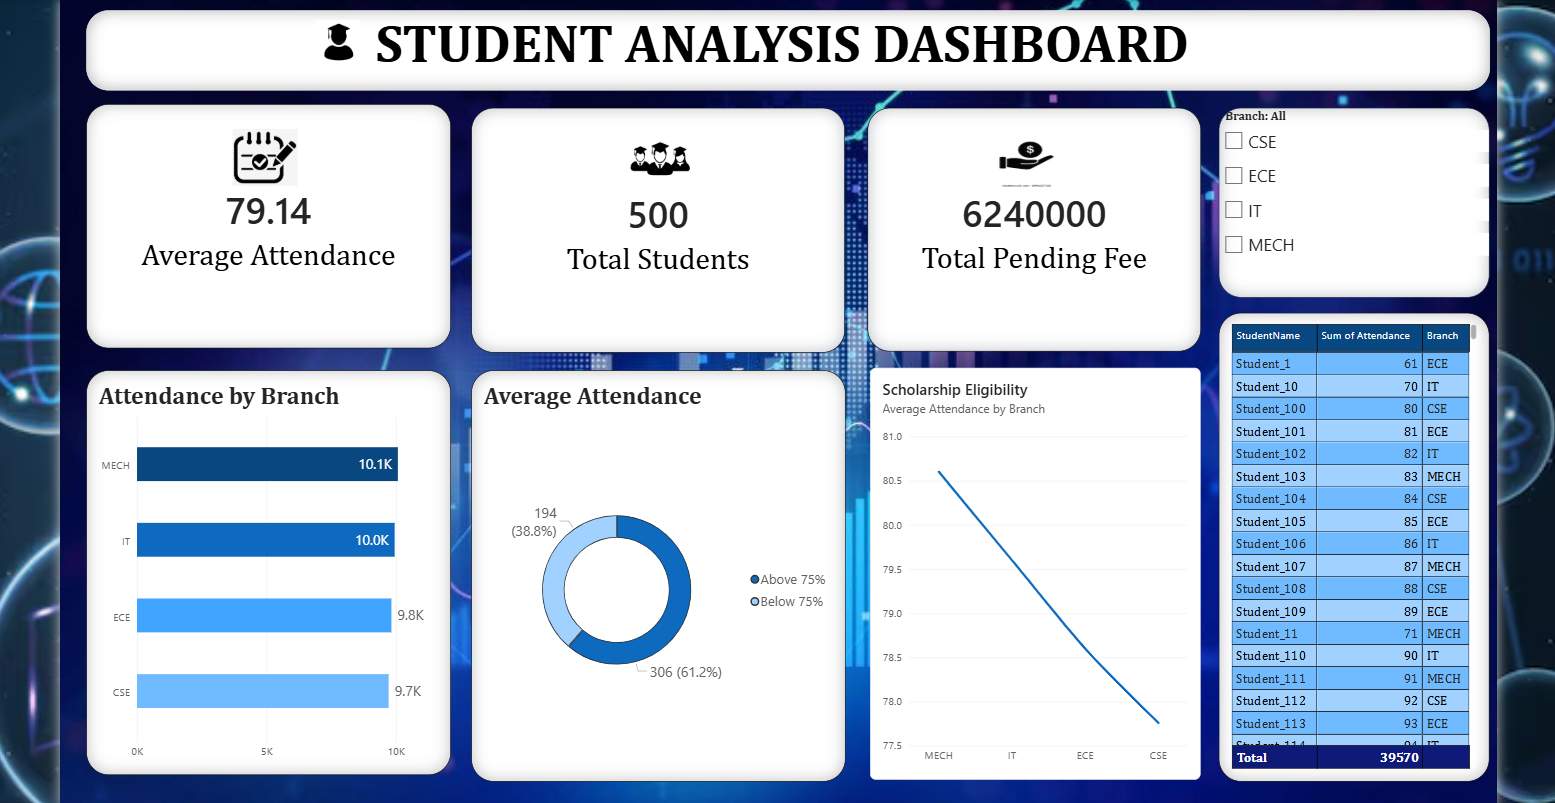

The dashboard page shown, as its layout file describes it:
{"tool":"powerbi","page":{"name":"Student_Analysis","canvas":[1920,1080],"ordinal":0},"visuals":[{"type":"card","fields":{"Values":["Student_Dataset.Average Attendance"]},"box":[34.6,140.7,486.9,326.8],"z":0},{"type":"card","fields":{"Values":["Student_Dataset.Total Students"]},"box":[550.1,144.8,499.5,327.5],"z":1000},{"type":"card","fields":{"Values":["Student_Dataset.Total Pending Fee"]},"box":[1078.7,145.3,445.8,325.6],"z":2000},{"type":"clusteredBarChart","title":"Attendance by Branch","fields":{"Y":["Sum(Student_Dataset.Attendance)"],"Category":["Student_Dataset.Branch"]},"box":[34.6,495.6,486.9,541],"z":3000},{"type":"tableEx","fields":{"Values":["Student_Dataset.StudentName","Sum(Student_Dataset.Attendance)","Student_Dataset.Branch"]},"box":[1547.3,419.8,361.9,626.1],"z":4000},{"type":"donutChart","title":"Average Attendance","fields":{"Category":["Student_Dataset.Attendance Status"],"Y":["CountNonNull(Student_Dataset.RollNo)"]},"box":[549.7,495.6,499.9,549.7],"z":5000},{"type":"lineChart","title":"Scholarship Eligibility","fields":{"Category":["Student_Dataset.Branch"],"Y":["Student_Dataset.Average Attendance"]},"box":[1082.2,492.2,441.6,550.1],"z":6000},{"type":"slicer","fields":{"Values":["Student_Dataset.Branch"]},"box":[1547.3,144.8,361.9,253.4],"z":7000},{"type":"textbox","box":[35.1,15,1875.1,106.9],"z":8000},{"type":"image","box":[537.5,32.6,133.9,59.7],"z":9000},{"type":"image","box":[229.8,171.9,86.9,79.6],"z":10000},{"type":"image","box":[1221.5,171.9,137.5,79.6],"z":11000},{"type":"image","box":[704,171.9,193.6,83.2],"z":12000}]}

Visuals, with their boxes in screenshot pixels (x1, y1, x2, y2):
card - Student_Dataset.Average Attendance: <box>67,99,436,347</box>
card - Student_Dataset.Total Students: <box>458,102,837,350</box>
card - Student_Dataset.Total Pending Fee: <box>859,102,1198,349</box>
"Attendance by Branch" clusteredBarChart: <box>67,368,436,779</box>
tableEx - Student_Dataset.StudentName x Sum(Student_Dataset.Attendance): <box>1215,311,1490,786</box>
"Average Attendance" donutChart: <box>458,368,837,785</box>
"Scholarship Eligibility" lineChart: <box>862,366,1197,783</box>
slicer - Student_Dataset.Branch: <box>1215,102,1490,294</box>
textbox: <box>67,3,1490,84</box>
image: <box>448,17,550,62</box>
image: <box>215,122,281,183</box>
image: <box>968,122,1072,183</box>
image: <box>575,122,722,186</box>
